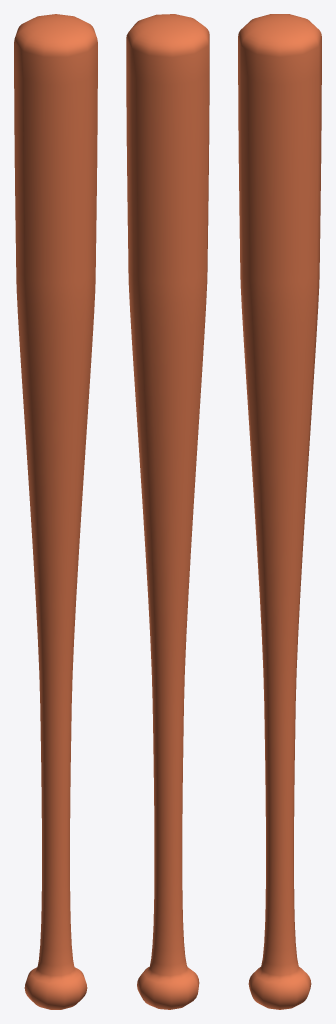
The model's file is BaseBallBat.fbx.
The picture shows the model from 3 angles, left to right: view 1: azimuth 90°, elevation 25°; view 2: azimuth 210°, elevation 25°; view 3: azimuth 270°, elevation 25°; orthographic projection.
Parts seen in each view (by area): view 1: BaseBallBat; view 2: BaseBallBat; view 3: BaseBallBat.
Part boxes in pixels (x1,y1,x2,y2): BaseBallBat: [14, 14, 97, 1009]; BaseBallBat: [126, 14, 209, 1009]; BaseBallBat: [238, 14, 321, 1009].
Bounding box in the file's own units: 69.02 × 901 × 69.73.
